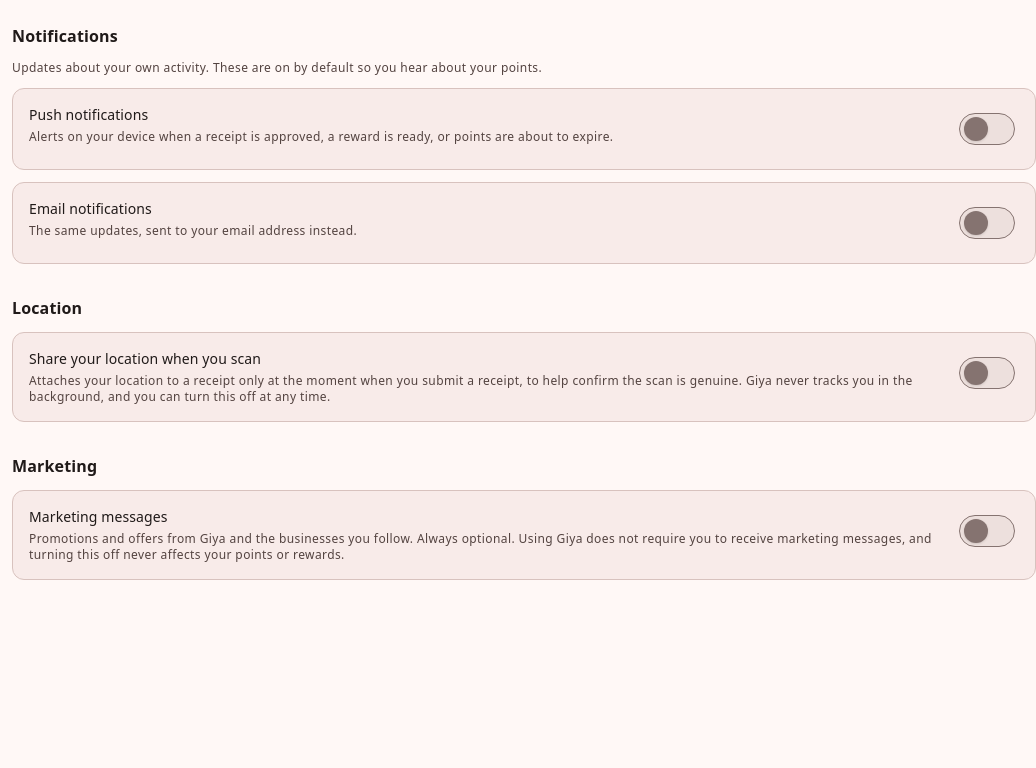
a write that fails › shows the specific message the action returned
Click the switch named "Email notifications".
click(987, 223)  # box [955,199,1019,247]
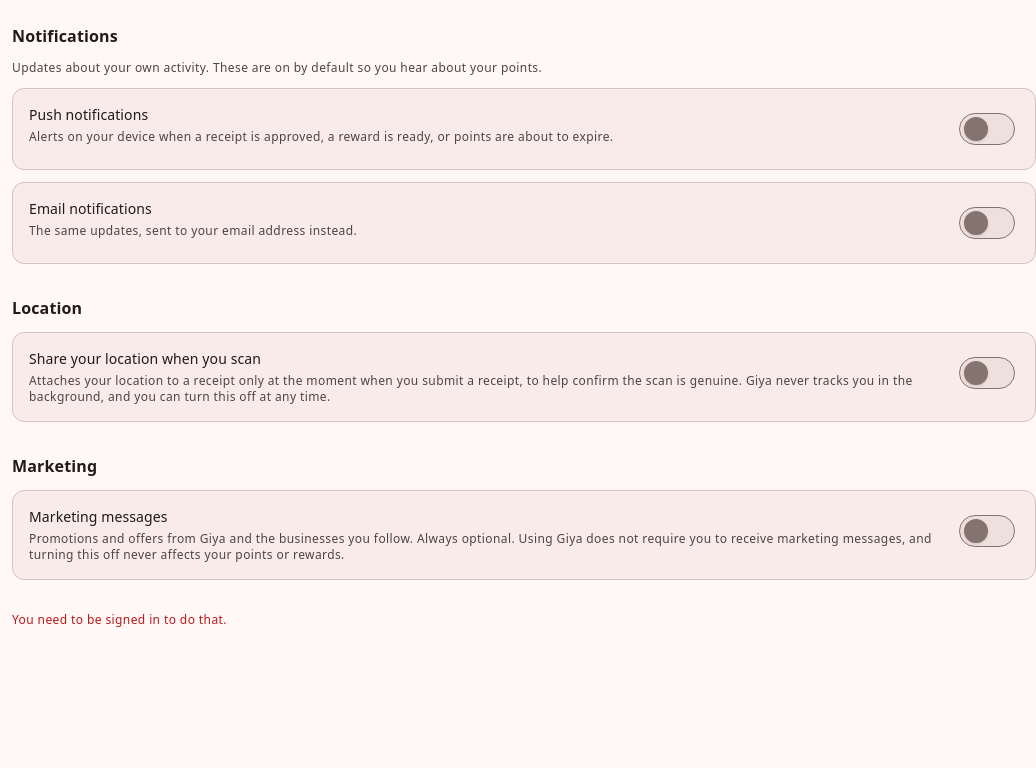
Expected: the message reads "You need to be signed in to do that.", [12,611,227,628]
